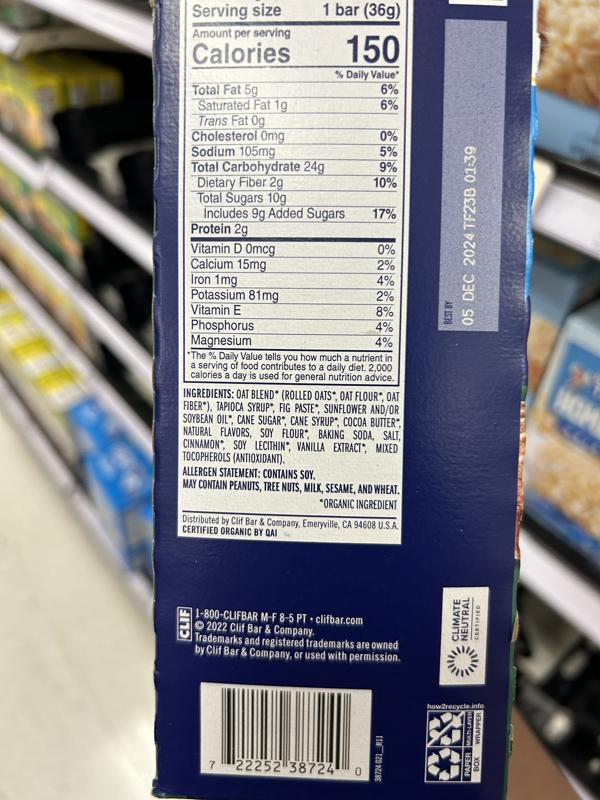ingredients: (180, 387, 402, 465)
